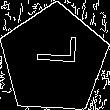L_W: (29, 43, 79, 77)
